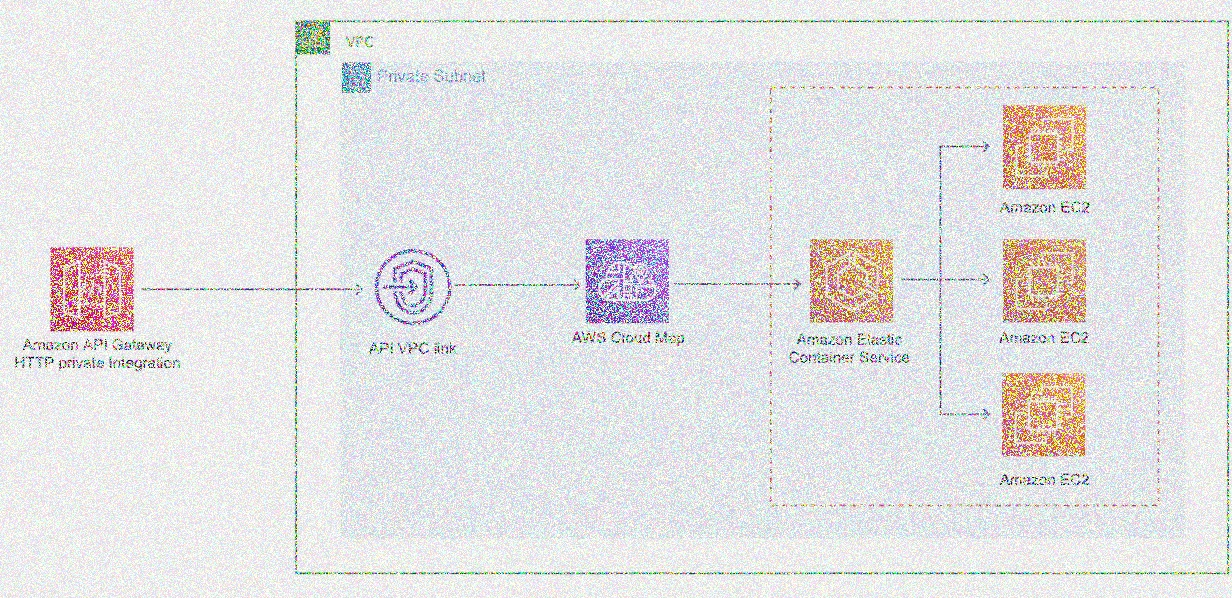API-Gateway: (46, 239, 138, 335)
Cloud Map: (582, 229, 672, 328)
EC2: (997, 366, 1091, 464), (999, 96, 1092, 194), (999, 233, 1093, 328)
EFS Mount Target: (371, 238, 458, 328)
Elastic Container Service: (807, 231, 901, 328)
Private Link: (339, 58, 373, 94)
